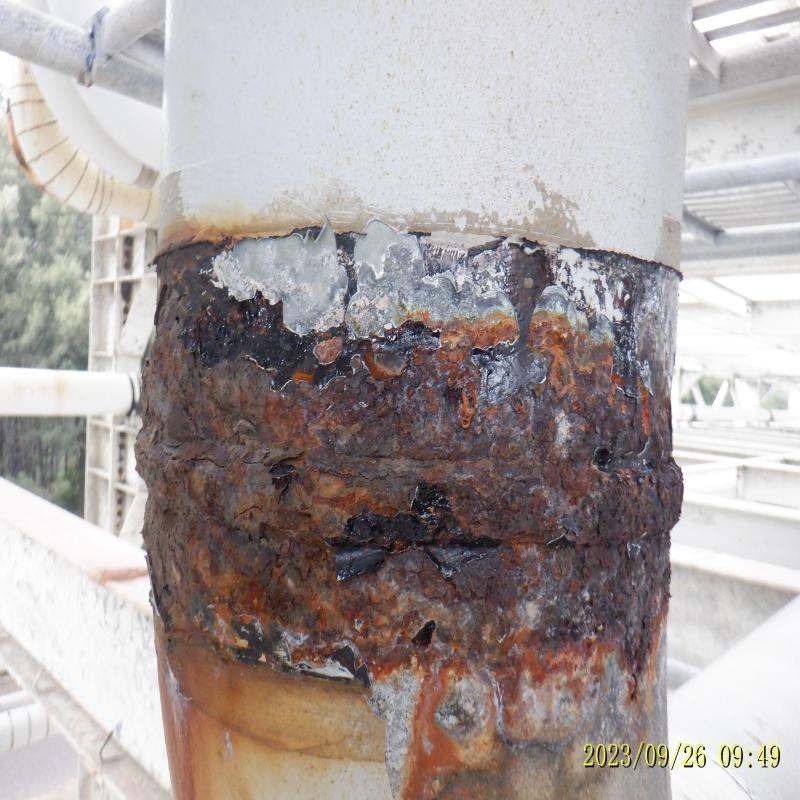corrosion: (156, 262, 663, 599)
